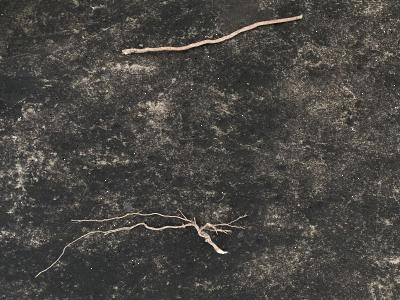Root: (36, 210, 236, 276), (122, 15, 302, 55)
